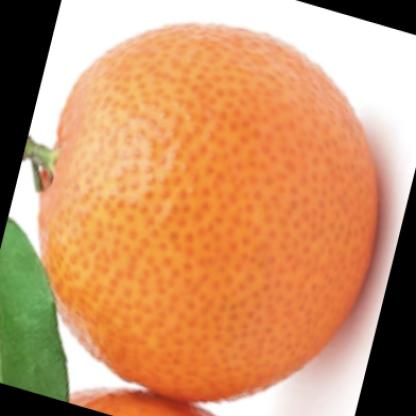fresh: (34, 24, 380, 401)
